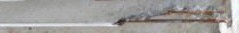Exposed reinforcement: (127, 17, 227, 23), (162, 9, 225, 15)
Spalling: (111, 5, 232, 28)
